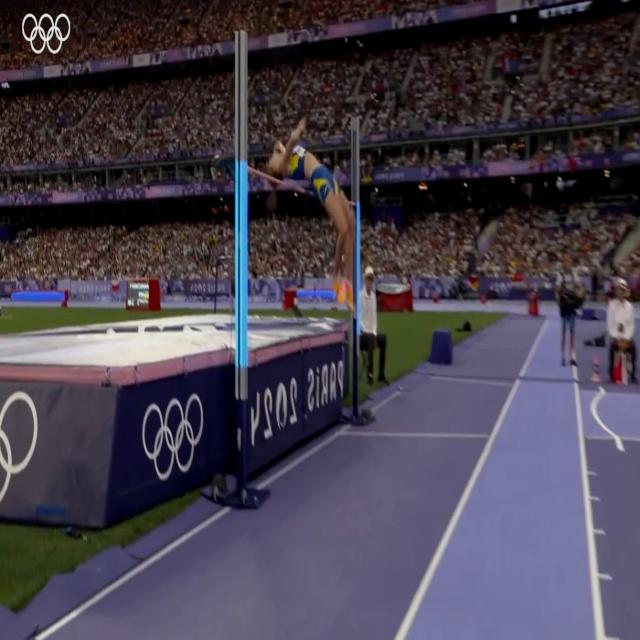jump: (266, 115, 356, 314)
